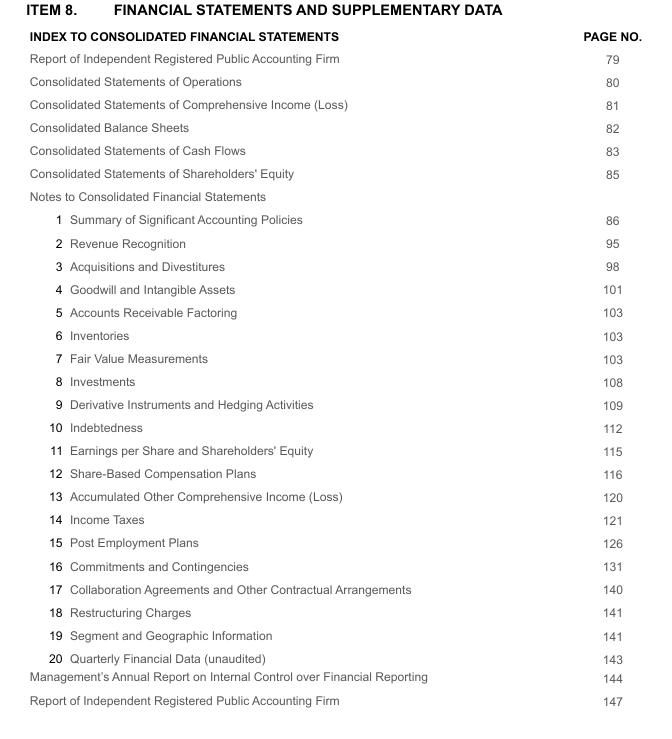table: (28, 28, 641, 707)
table column: (65, 28, 504, 707), (504, 28, 641, 707), (28, 28, 65, 707)
table column header: (28, 28, 641, 184)
table projected row header: (28, 184, 641, 207)
table row: (28, 28, 641, 184), (28, 207, 641, 231), (28, 484, 641, 508), (28, 184, 641, 207), (28, 231, 641, 254), (28, 254, 641, 277), (28, 277, 641, 300), (28, 300, 641, 323), (28, 323, 641, 346), (28, 346, 641, 369), (28, 369, 641, 392), (28, 392, 641, 415), (28, 415, 641, 438), (28, 438, 641, 461), (28, 461, 641, 484), (28, 508, 641, 531), (28, 531, 641, 554), (28, 554, 641, 577), (28, 577, 641, 600), (28, 600, 641, 623), (28, 623, 641, 646), (28, 646, 641, 667), (28, 667, 641, 688), (28, 688, 641, 707)
table spanning cell: (28, 28, 504, 184), (28, 667, 504, 688), (28, 688, 504, 707)
